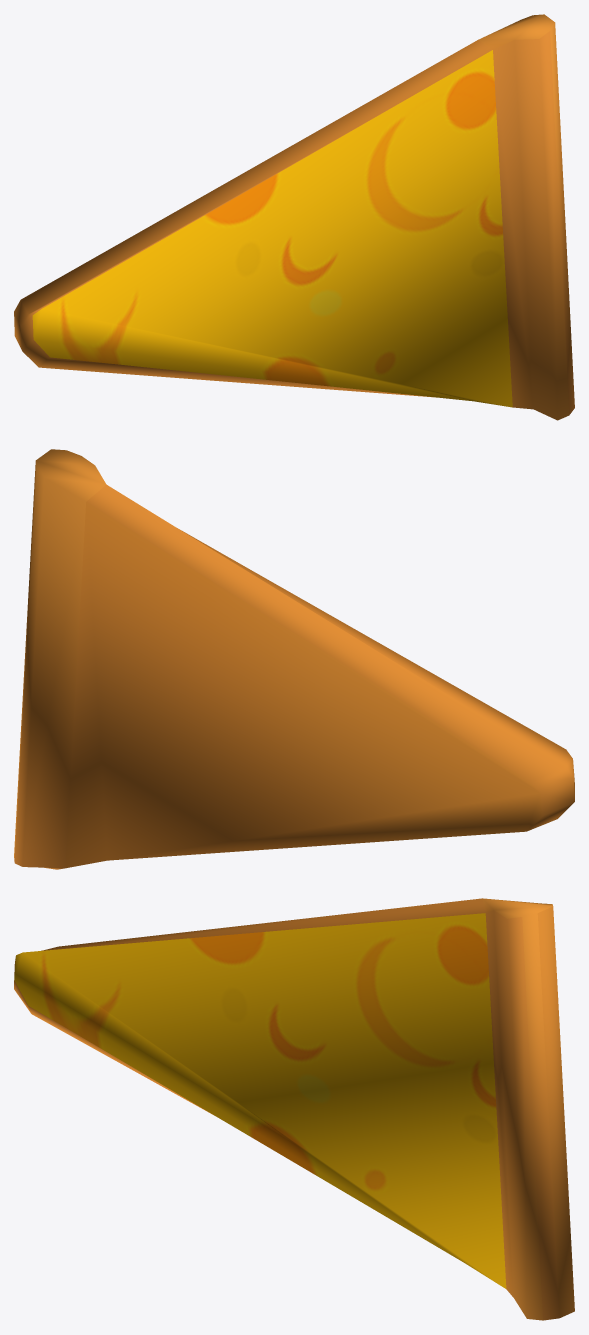
The model's file is yellow_pizza.glb.
The picture shows the model from 3 angles, top to bottom: view 1: azimuth 30°, elevation 25°; view 2: azimuth 150°, elevation 25°; view 3: azimuth 330°, elevation 25°; orthographic projection. The views are drawn at different scales.
Visible parts, largest first — view 1: Yellow_Pizza; view 2: Yellow_Pizza; view 3: Yellow_Pizza.
Boxes of the visible parts, <box> form: Yellow_Pizza: <box>14,14,574,420</box>; Yellow_Pizza: <box>14,449,574,869</box>; Yellow_Pizza: <box>14,898,574,1320</box>.
Bounding box in the file's own units: 0.7329 × 0.5072 × 0.0928.
Materials: 1 (1 with a texture image).
